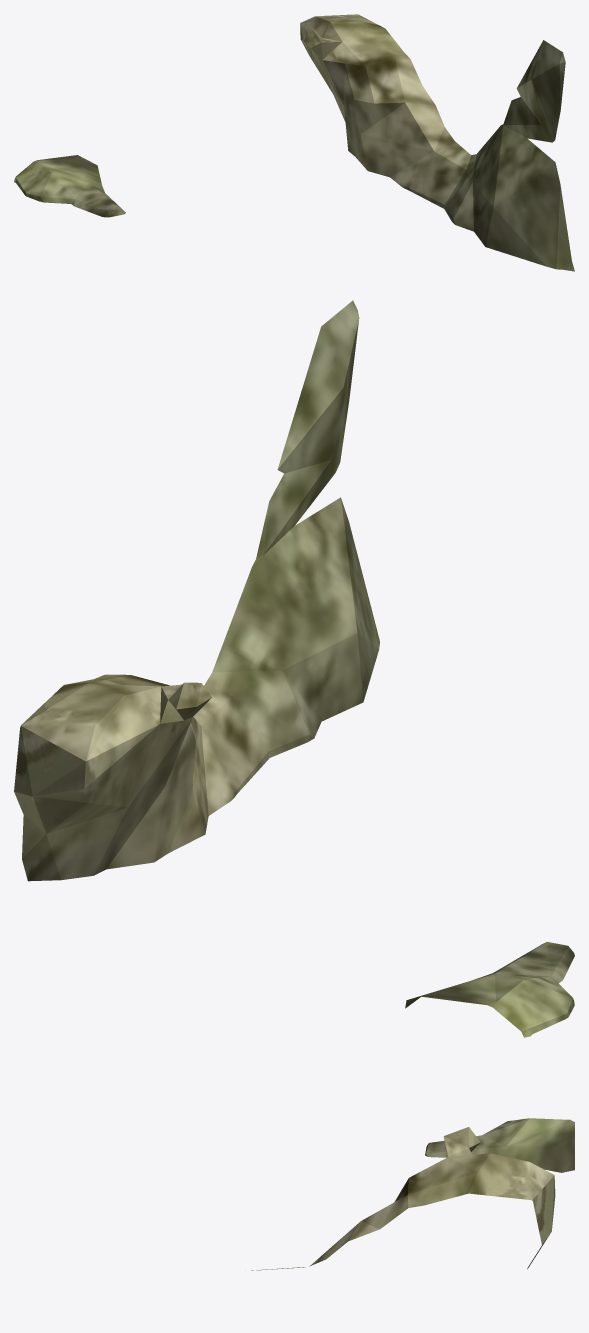
3 renders of one model, top to bottom at view 1: azimuth 30°, elevation 25°; view 2: azimuth 150°, elevation 25°; view 3: azimuth 270°, elevation 25°, orthographic. The views are drawn at different scales.
Size of the model in its own units: 1.74 by 1.05 by 2.1.
1 material, 1 textured.
